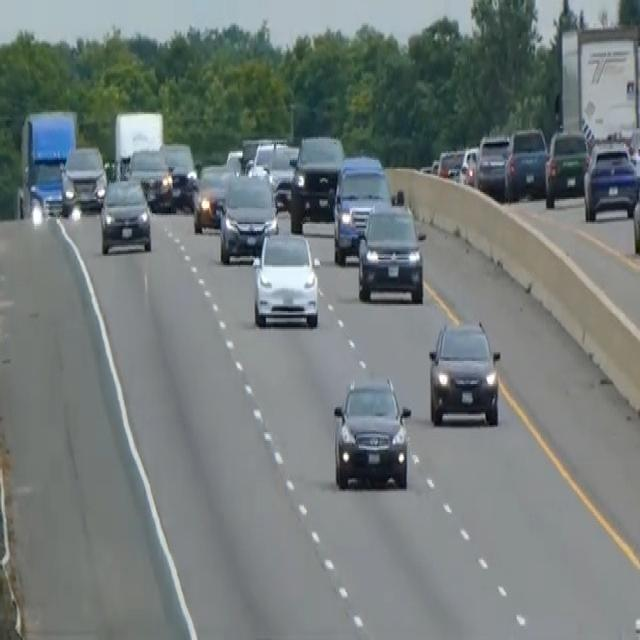car: (331, 372, 412, 491), (427, 316, 501, 426), (356, 196, 425, 304), (251, 227, 319, 329), (332, 153, 391, 265), (218, 169, 278, 263), (289, 132, 343, 231), (582, 137, 638, 220), (98, 174, 152, 254), (544, 126, 589, 206), (504, 125, 548, 199), (62, 142, 107, 212), (192, 160, 233, 233), (128, 146, 173, 212), (158, 138, 197, 210), (474, 132, 511, 196), (267, 144, 298, 210), (169, 162, 197, 212), (253, 137, 286, 172), (437, 146, 463, 181), (458, 144, 479, 187), (224, 146, 245, 176), (632, 174, 639, 256)
lorry: (16, 107, 78, 220)
